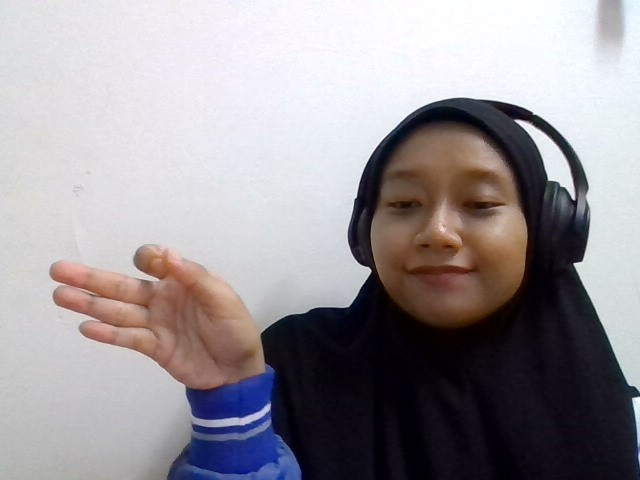Tudung: (48, 244, 264, 390)
